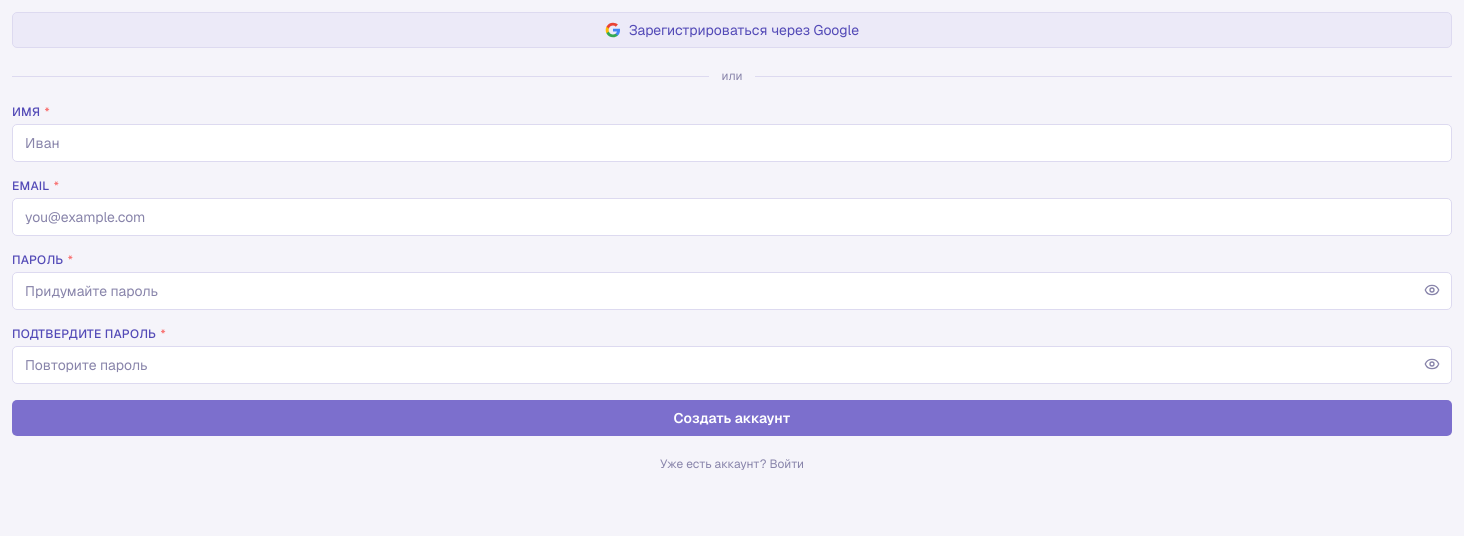
Test: RegisterForm › shows duplicate email error on 409 response
Name label renders as "Имя *", use placeholder to find the input
Type "Ivan" into the field with placeholder "Иван".
click(732, 143); type("Ivan")  # box [12,124,1452,162]
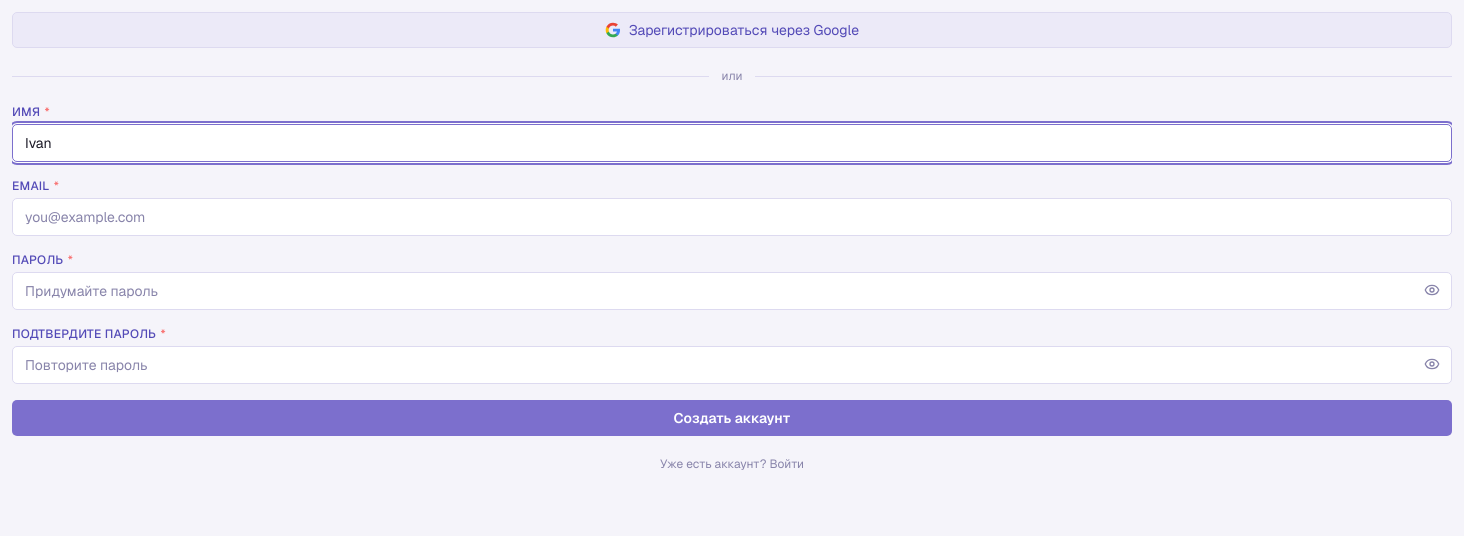
Type "existing@test.com" into the field with placeholder "you@example.com".
click(732, 217); type("existing@test.com")  # box [12,198,1452,236]
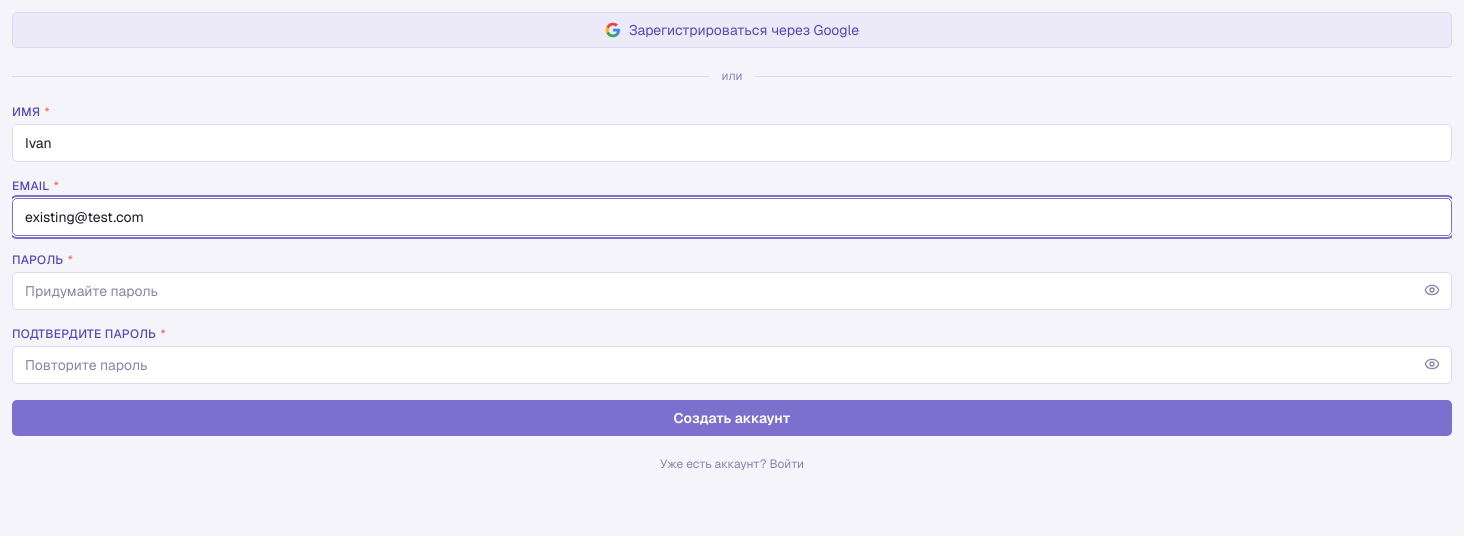
Type "Password1!" into the password field labelled "Пароль*".
click(732, 291); type("Password1!")  # box [12,272,1452,310]
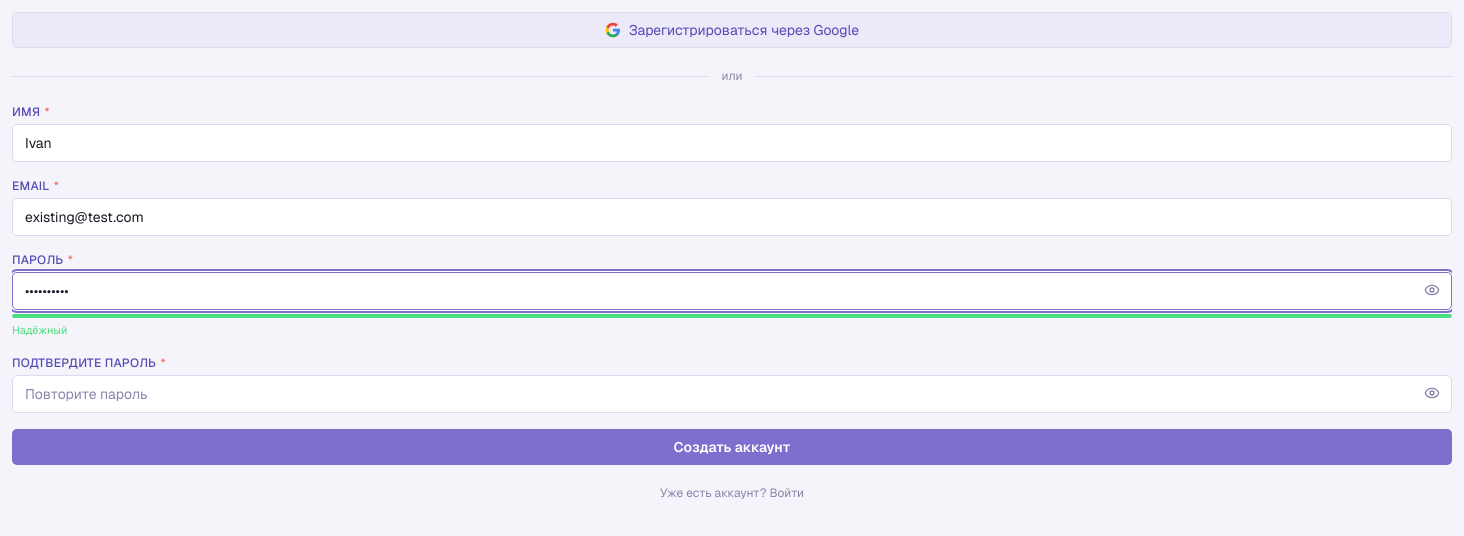
Type "Password1!" into the password field labelled "Подтвердите пароль*".
click(732, 394); type("Password1!")  # box [12,374,1452,412]
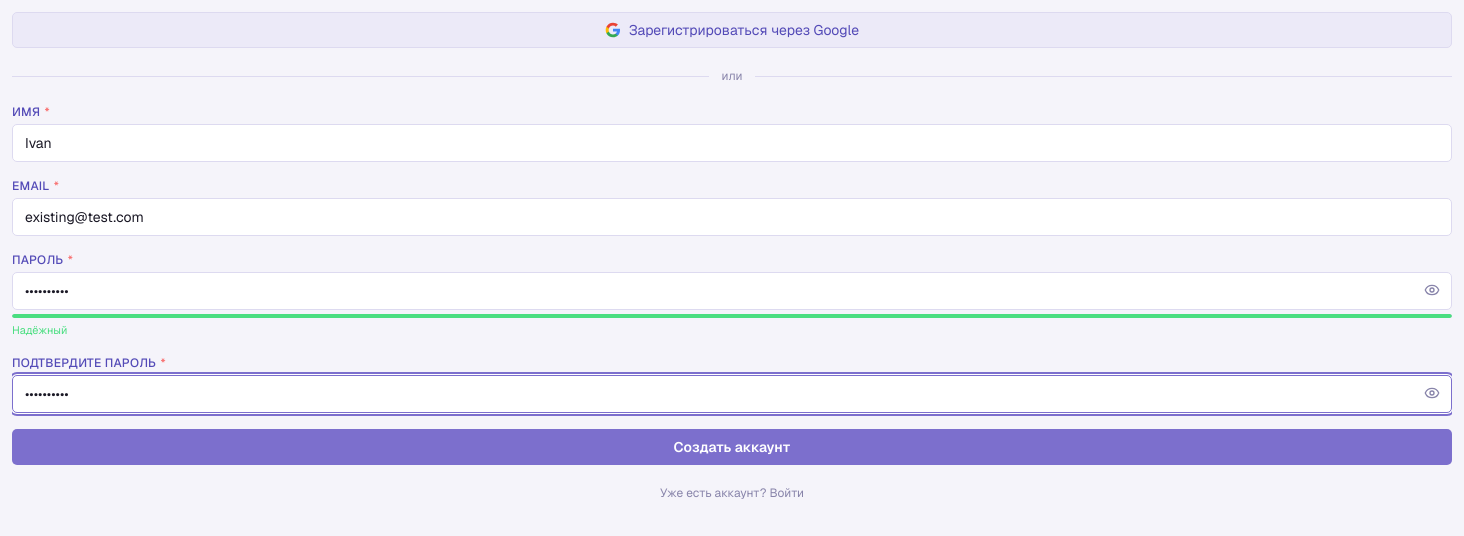
Submit the form
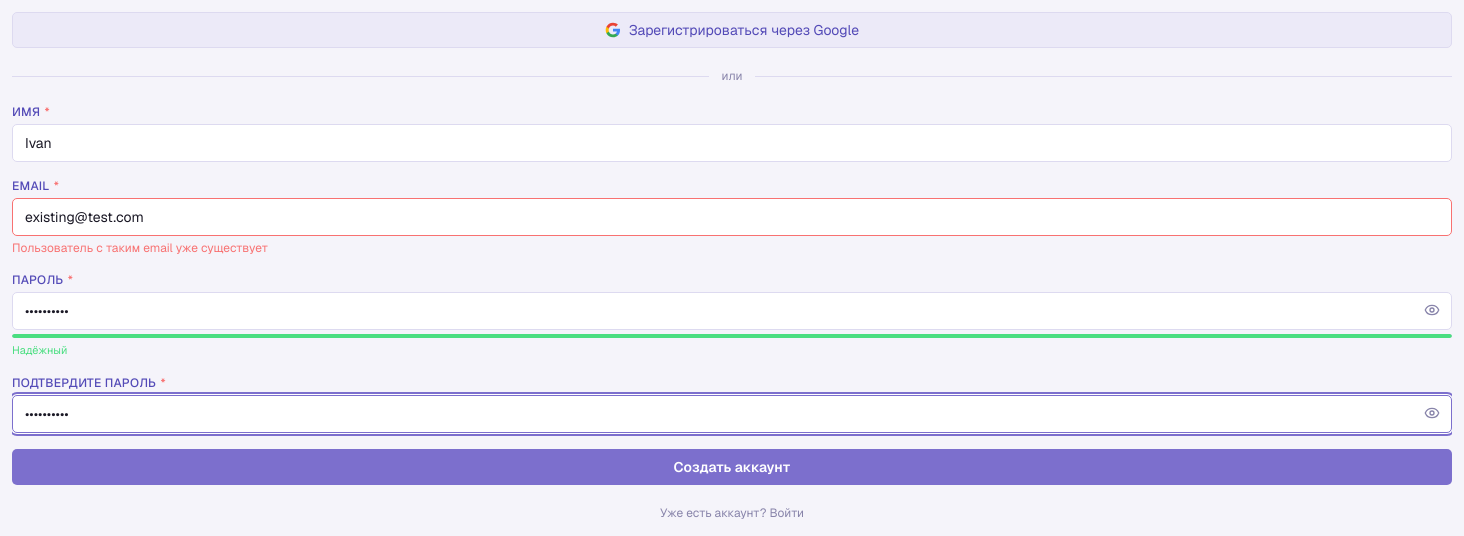
expect the text "Пользователь с таким email уже существует" is shown: met, box [12,240,268,256]
